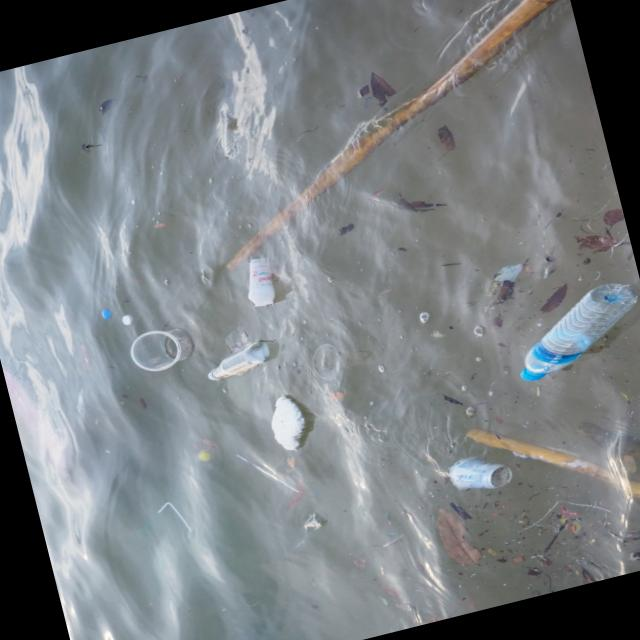foam: (260, 389, 316, 457)
plastic bottle: (504, 278, 640, 386), (204, 340, 273, 381), (239, 255, 280, 310)
